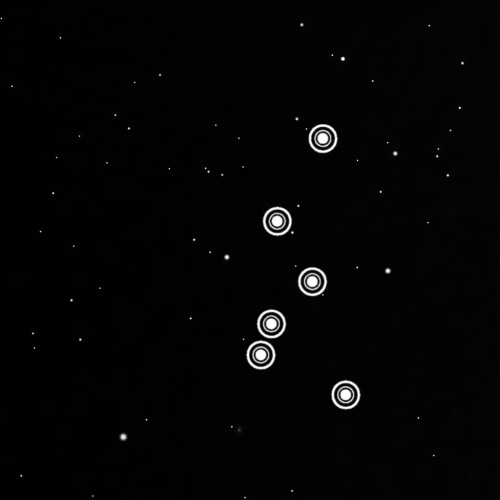cassiopeia: (242, 118, 369, 418)
